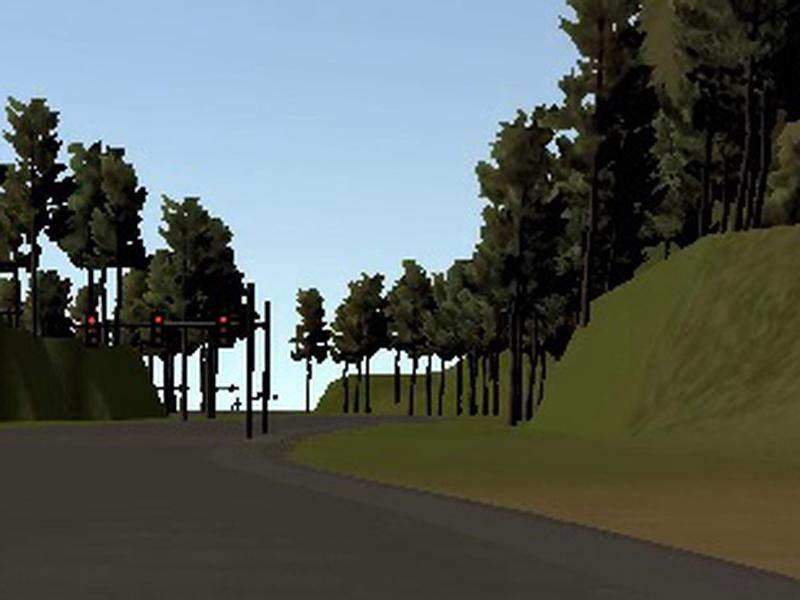Red: (148, 311, 166, 347), (214, 313, 232, 348), (84, 313, 101, 348)
